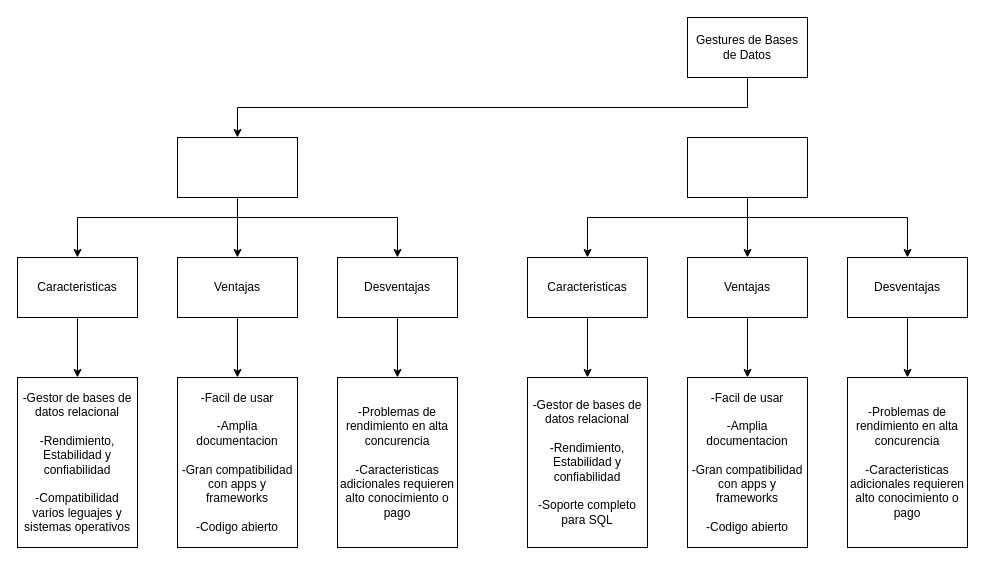
Some shapes in this 985 by 565 pixel diagram are drawn without their labels. Each missing label, with the box of its shape:
MySQL: (176, 136, 298, 198)
PostgreSQL: (686, 136, 808, 198)
